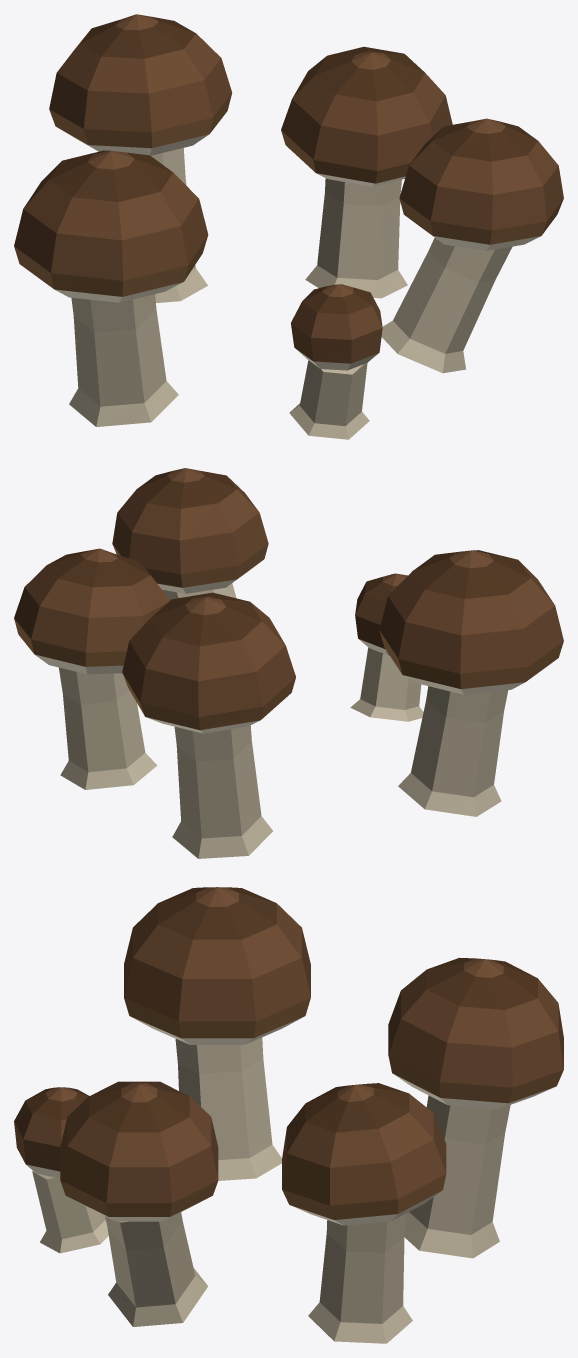
The model's file is cave_mushroom.gltf.
The picture shows the model from 3 angles, top to bottom: view 1: azimuth 30°, elevation 25°; view 2: azimuth 150°, elevation 25°; view 3: azimuth 270°, elevation 25°; orthographic projection. The views are drawn at different scales.
Parts seen in each view (by area): view 1: cave_mushroom; view 2: cave_mushroom; view 3: cave_mushroom.
Boxes of the visible parts, bbox=[...] form: cave_mushroom: bbox=[14, 14, 563, 439]; cave_mushroom: bbox=[14, 468, 563, 858]; cave_mushroom: bbox=[14, 887, 563, 1343].
Bounding box in the file's own units: 0.3871 × 0.2102 × 0.3674.
